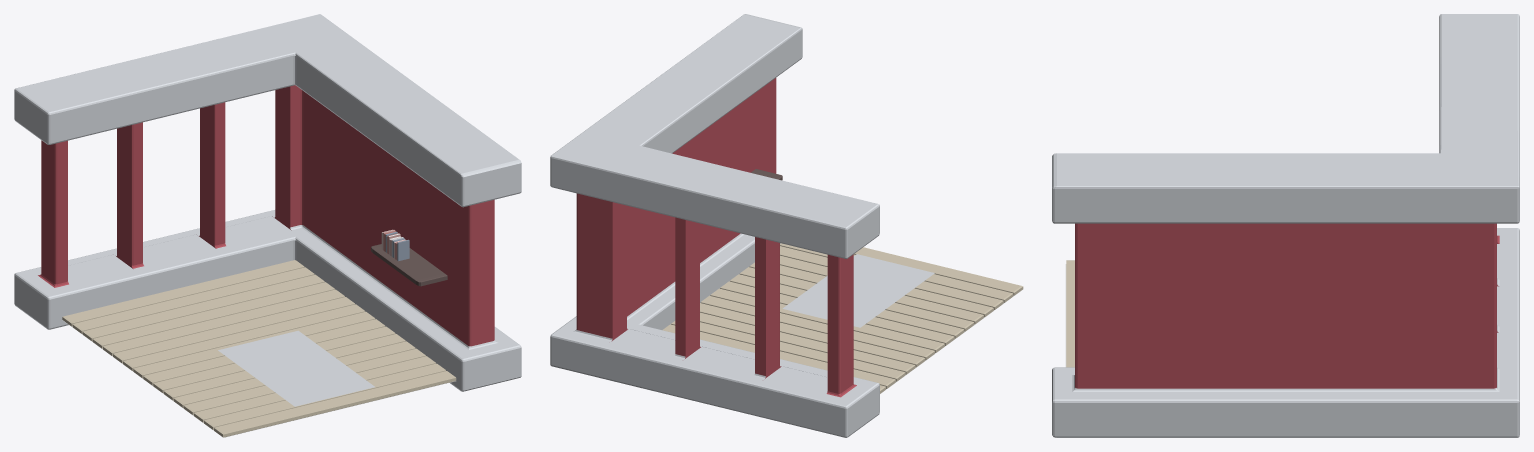
Rendered from base_room_red.gltf.
3 renders of one model, left to right at view 1: azimuth 30°, elevation 25°; view 2: azimuth 150°, elevation 25°; view 3: azimuth 270°, elevation 25°, orthographic. The views are drawn at different scales.
Parts seen in each view (by area): view 1: Cube.001, Plane.001, Plane.008, Cube.003; view 2: Cube.001, Plane.001, Plane.008; view 3: Cube.001, Plane.001.
Part boxes in pixels (box(x1,y1,x2,y2)): Cube.001: box(14, 14, 521, 391); Plane.001: box(62, 260, 456, 437); Plane.008: box(218, 330, 374, 406); Cube.003: box(371, 244, 447, 286); Cube.001: box(550, 14, 879, 437); Plane.001: box(662, 243, 1023, 393); Plane.008: box(782, 254, 934, 327); Cube.001: box(1052, 14, 1519, 437); Plane.001: box(1066, 260, 1074, 367).
Bounding box in the file's own units: 17.44 × 11.8 × 19.86.
